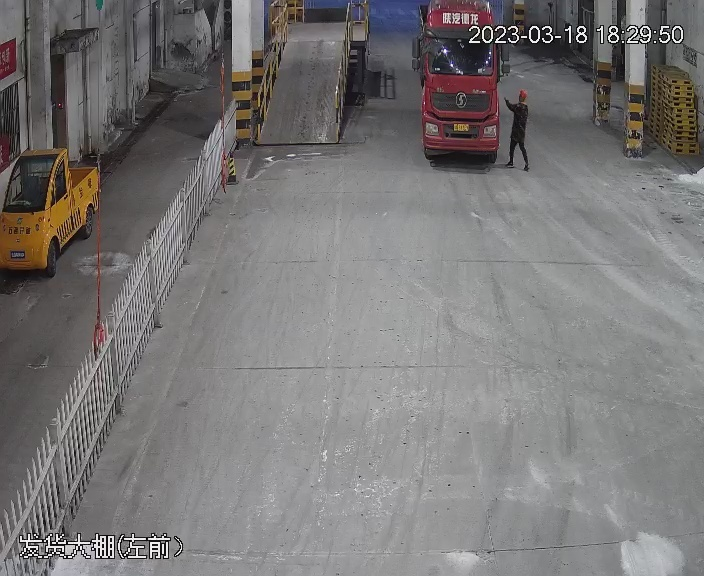head: (511, 88, 529, 114)
helmet: (517, 88, 528, 98)
people: (503, 87, 531, 171)
truck: (413, 1, 505, 162)
